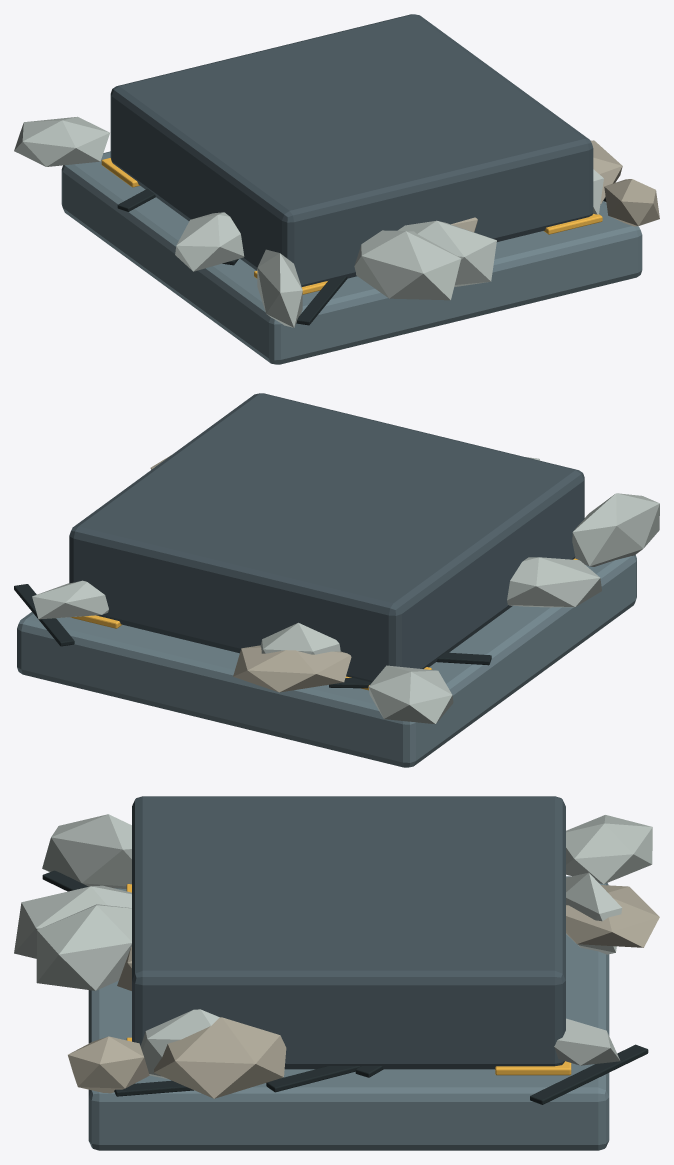
The model's file is research_specimen_crate_d3.glb.
The picture shows the model from 3 angles, top to bottom: view 1: azimuth 30°, elevation 25°; view 2: azimuth 150°, elevation 25°; view 3: azimuth 270°, elevation 25°; orthographic projection. The views are drawn at different scales.
Visible parts, largest first — view 1: Shock cradle.003, Foundation.035, Bounded fractured debris.250, Bounded fractured debris.249, Bounded fractured debris.247, Bounded fractured debris.244, Bounded fractured debris.246, Bounded fractured debris.251, Bounded fractured debris.242, Scorched impact.260; view 2: Shock cradle.003, Foundation.035, Bounded fractured debris.246, Bounded fractured debris.245, Bounded fractured debris.247, Bounded fractured debris.249, Bounded fractured debris.258, Bounded fractured debris.243, Scorched impact.268, Scorched impact.264; view 3: Shock cradle.003, Foundation.035, Bounded fractured debris.242, Bounded fractured debris.244, Bounded fractured debris.246, Bounded fractured debris.249, Bounded fractured debris.245, Bounded fractured debris.251, Bounded fractured debris.250, Bounded fractured debris.258, Bounded fractured debris.243, Bounded fractured debris.259 (+4 smaller).
Part boxes in pixels (x1=…): Shock cradle.003: x1=110, y1=14, x2=593, y2=286; Foundation.035: x1=61, y1=151, x2=642, y2=364; Bounded fractured debris.250: x1=354, y1=230, x2=460, y2=300; Bounded fractured debris.249: x1=14, y1=116, x2=109, y2=166; Bounded fractured debris.247: x1=175, y1=212, x2=244, y2=271; Bounded fractured debris.244: x1=397, y1=220, x2=496, y2=286; Bounded fractured debris.246: x1=257, y1=249, x2=302, y2=327; Bounded fractured debris.251: x1=604, y1=179, x2=659, y2=226; Bounded fractured debris.242: x1=591, y1=140, x2=622, y2=204; Scorched impact.260: x1=296, y1=276, x2=347, y2=325; Shock cradle.003: x1=69, y1=393, x2=584, y2=682; Foundation.035: x1=17, y1=555, x2=636, y2=767; Bounded fractured debris.246: x1=572, y1=493, x2=659, y2=566; Bounded fractured debris.245: x1=233, y1=645, x2=351, y2=692; Bounded fractured debris.247: x1=507, y1=557, x2=601, y2=607; Bounded fractured debris.249: x1=368, y1=665, x2=453, y2=724; Bounded fractured debris.258: x1=32, y1=580, x2=108, y2=619; Bounded fractured debris.243: x1=260, y1=622, x2=340, y2=685; Scorched impact.268: x1=14, y1=584, x2=74, y2=646; Scorched impact.264: x1=436, y1=652, x2=491, y2=665; Shock cradle.003: x1=132, y1=796, x2=565, y2=1069; Foundation.035: x1=88, y1=876, x2=609, y2=1150; Bounded fractured debris.242: x1=153, y1=1017, x2=286, y2=1098; Bounded fractured debris.244: x1=36, y1=904, x2=131, y2=990; Bounded fractured debris.246: x1=42, y1=814, x2=131, y2=888; Bounded fractured debris.249: x1=566, y1=815, x2=652, y2=884; Bounded fractured debris.245: x1=566, y1=885, x2=659, y2=947; Bounded fractured debris.251: x1=68, y1=1036, x2=149, y2=1093; Bounded fractured debris.250: x1=14, y1=885, x2=131, y2=958; Bounded fractured debris.258: x1=554, y1=1018, x2=620, y2=1065; Bounded fractured debris.243: x1=566, y1=872, x2=621, y2=954; Bounded fractured debris.259: x1=140, y1=1009, x2=219, y2=1079.
Bounding box in the file's own units: 2.81 × 0.82 × 2.98.
